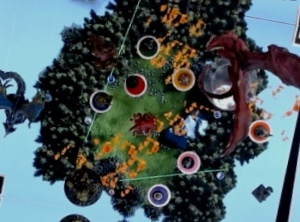blue: (87, 86, 116, 114)
green: (133, 30, 164, 62)
orange: (248, 118, 275, 146)
pink: (173, 144, 205, 177)
red: (119, 68, 152, 100)
violet: (142, 178, 174, 211)
yellow: (169, 61, 200, 93)
